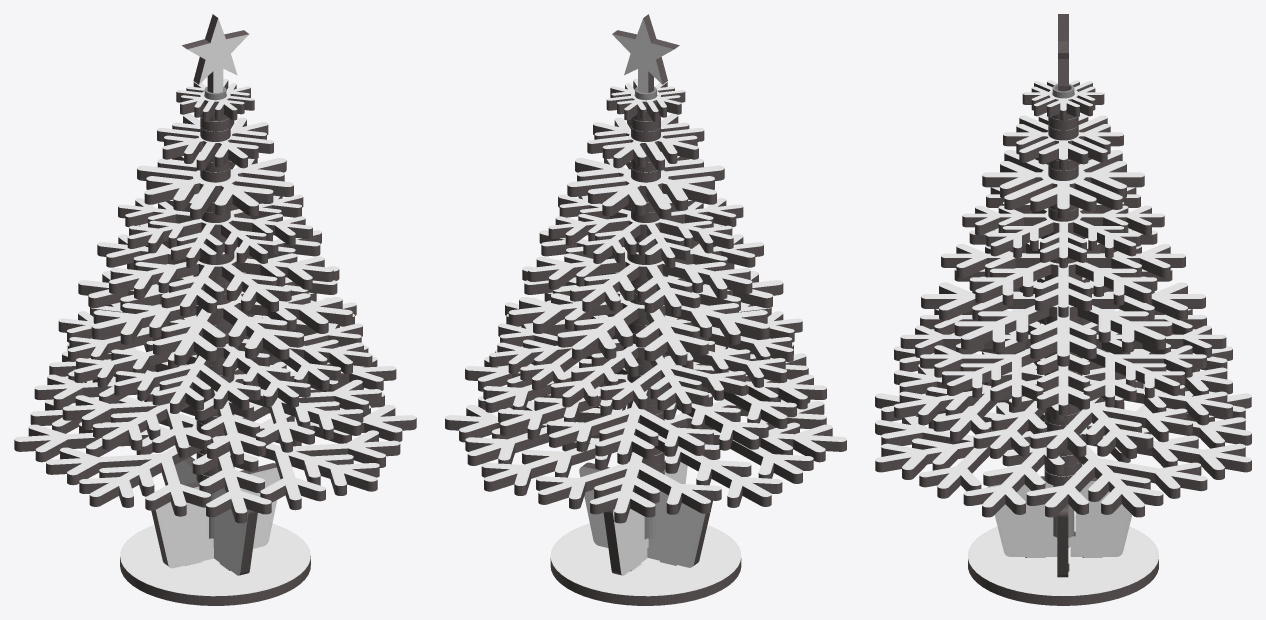
The model's file is tree3-compressed.glb.
The picture shows the model from 3 angles, left to right: view 1: azimuth 30°, elevation 25°; view 2: azimuth 150°, elevation 25°; view 3: azimuth 270°, elevation 25°; orthographic projection.
Parts seen in each view (by area): view 1: node_tree_-1118_1; view 2: node_tree_-1118_1; view 3: node_tree_-1118_1.
Part boxes in pixels (x1=…): node_tree_-1118_1: x1=14, y1=14, x2=416, y2=605; node_tree_-1118_1: x1=445, y1=14, x2=846, y2=605; node_tree_-1118_1: x1=875, y1=14, x2=1251, y2=605.
Size of the model in its own units: 0.9892 by 1.6 by 0.9892.
1 material, 1 textured.
